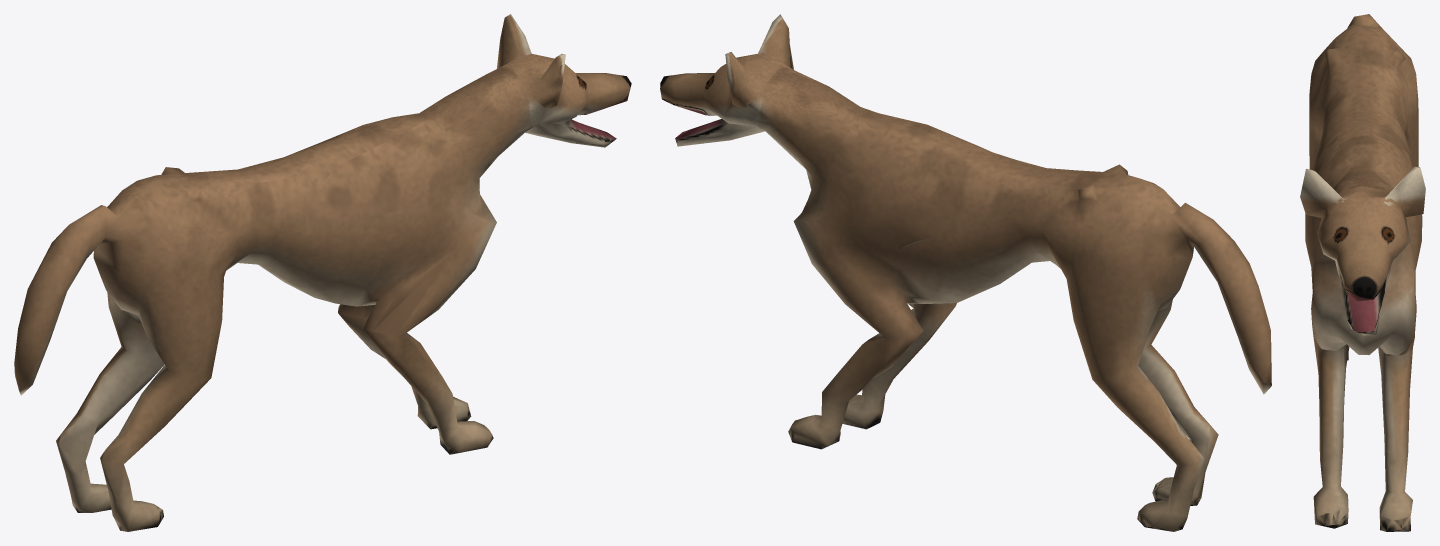
Rendered from stray_bark_lod1.glb.
The picture shows the model from 3 angles, left to right: view 1: azimuth 30°, elevation 25°; view 2: azimuth 150°, elevation 25°; view 3: azimuth 270°, elevation 25°; orthographic projection. The views are drawn at different scales.
Visible parts, largest first — view 1: stray_bark_lod1_mesh; view 2: stray_bark_lod1_mesh; view 3: stray_bark_lod1_mesh.
Boxes of the visible parts, bbox=[...] form: stray_bark_lod1_mesh: bbox=[14, 14, 631, 531]; stray_bark_lod1_mesh: bbox=[660, 14, 1271, 531]; stray_bark_lod1_mesh: bbox=[1300, 14, 1425, 531].
Size of the model in its own units: 1.02 by 0.6036 by 0.1737.
1 material, 1 textured.
